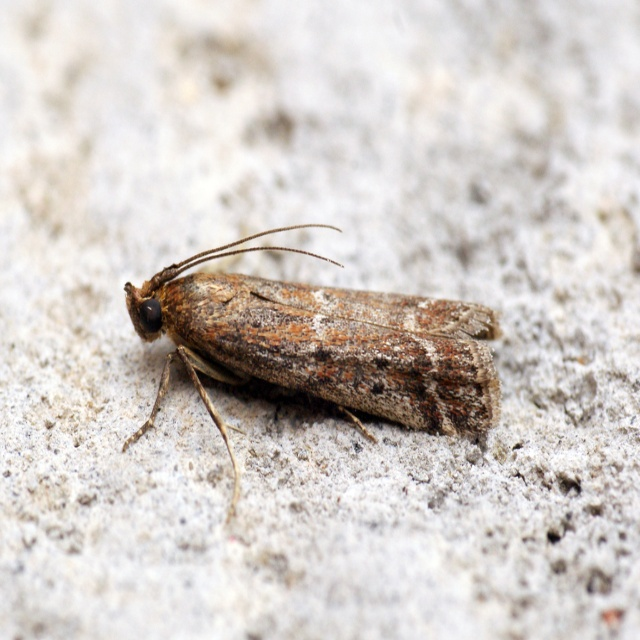Moths and butterflies: (123, 223, 506, 524)
